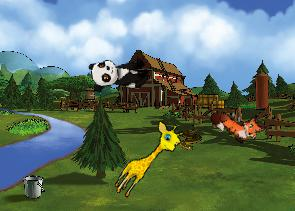fox: (207, 93, 269, 152)
giraffe: (110, 115, 187, 206)
panda: (88, 54, 151, 93)
